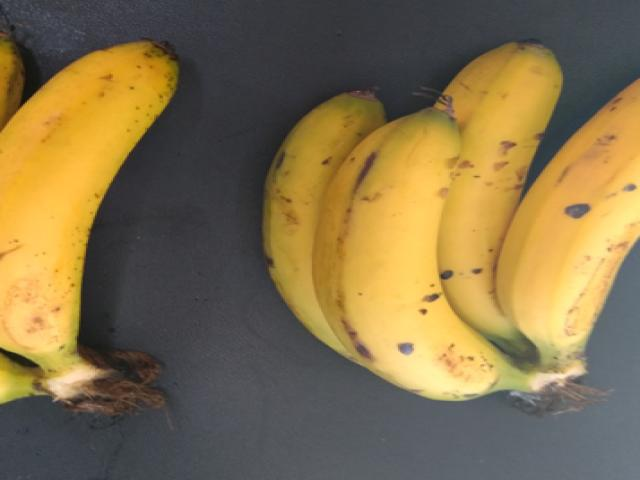ripe: (0, 20, 199, 354), (334, 107, 516, 418), (513, 53, 639, 462)
